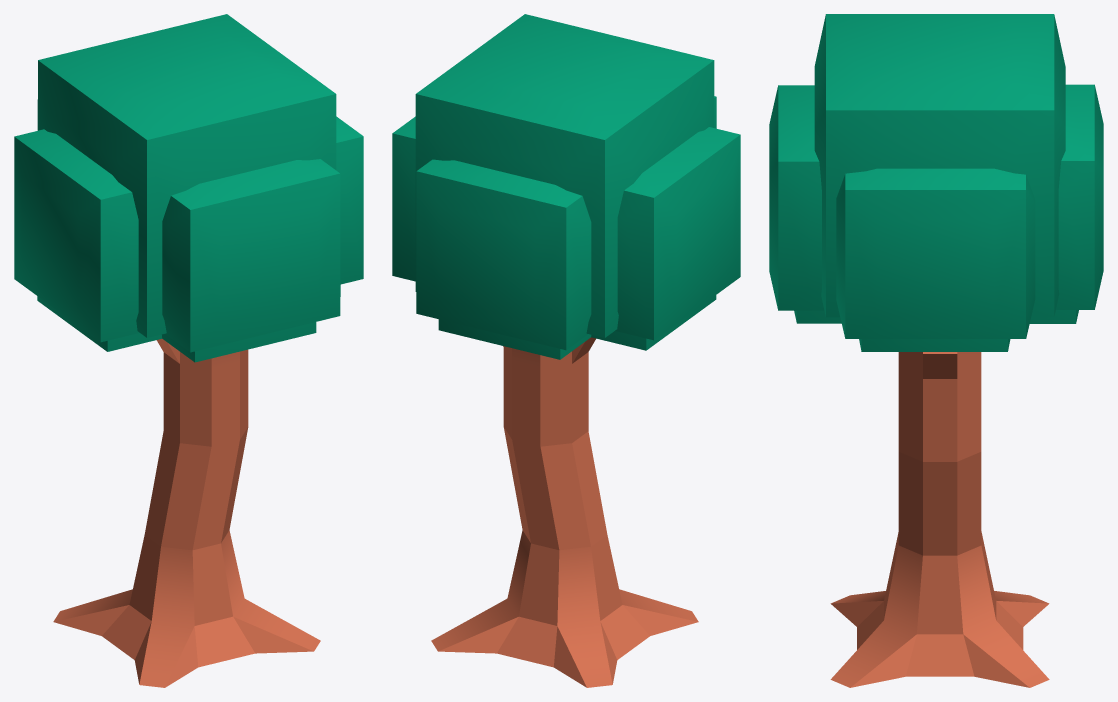
The picture shows the model from 3 angles, left to right: view 1: azimuth 30°, elevation 25°; view 2: azimuth 150°, elevation 25°; view 3: azimuth 270°, elevation 25°; orthographic projection. The views are drawn at different scales.
Parts seen in each view (by area): view 1: mergedBlocks; view 2: mergedBlocks; view 3: mergedBlocks.
Part boxes in pixels (x1,y1,x2,y2): mergedBlocks: (14,14,363,687); mergedBlocks: (392,14,740,687); mergedBlocks: (769,14,1103,687).
Size of the model in its own units: 14.65 by 28.5 by 14.65.
